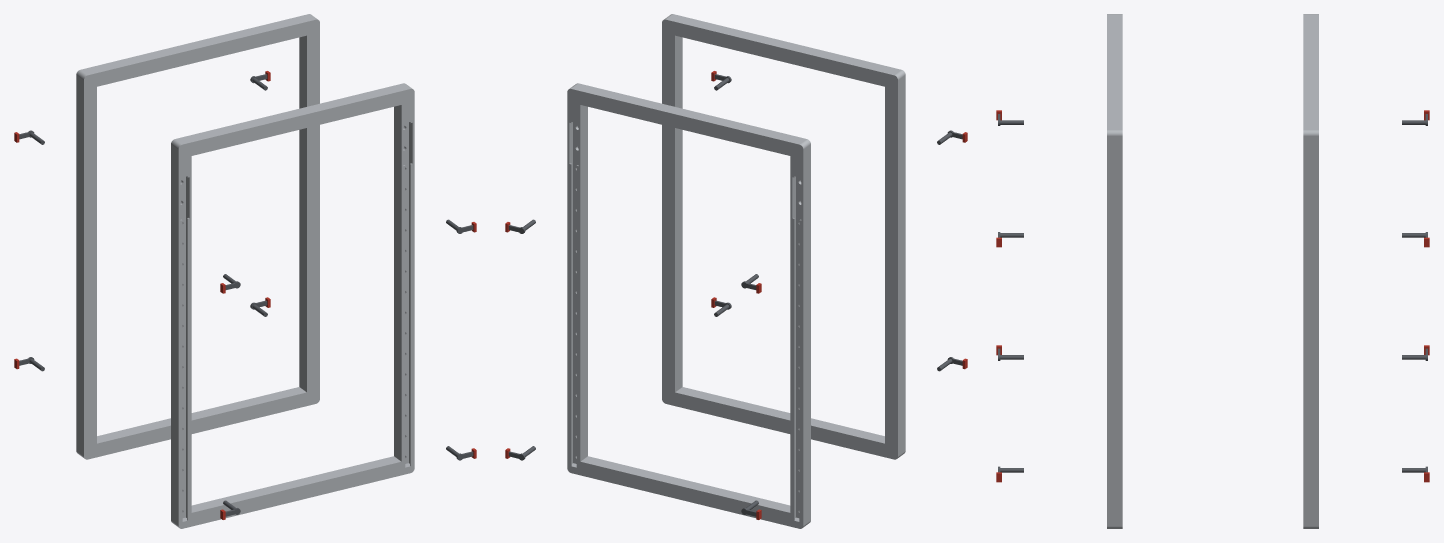
The model's file is b_suitcase_pulled.glb.
The picture shows the model from 3 angles, left to right: view 1: azimuth 30°, elevation 25°; view 2: azimuth 150°, elevation 25°; view 3: azimuth 270°, elevation 25°; orthographic projection. The views are drawn at different scales.
Visible parts, largest first — view 1: ring_front, ring_back; view 2: ring_back, ring_front; view 3: ring_front, ring_back.
Boxes of the visible parts, bbox=[...] form: ring_front: bbox=[171, 83, 414, 528]; ring_back: bbox=[76, 14, 319, 459]; ring_back: bbox=[567, 83, 810, 528]; ring_front: bbox=[662, 14, 905, 459]; ring_front: bbox=[1107, 14, 1122, 528]; ring_back: bbox=[1303, 14, 1318, 528].
Size of the model in its own units: 0.387 by 0.56 by 0.5516.
